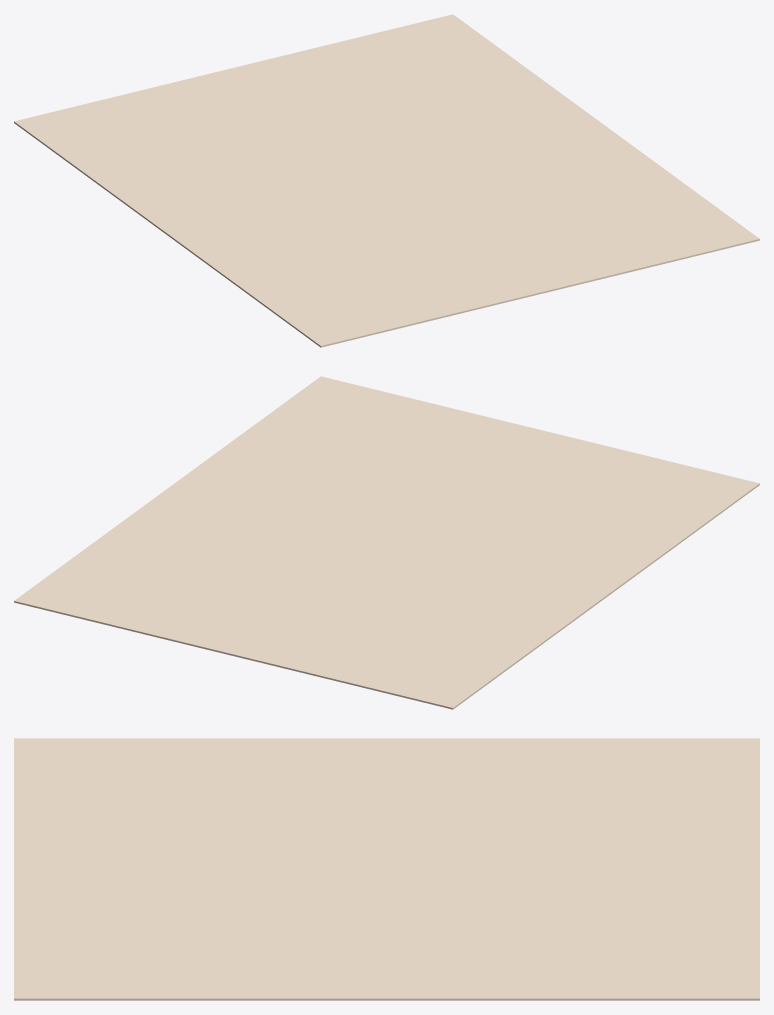
Rendered from celing.fbx.
3 renders of one model, top to bottom at view 1: azimuth 30°, elevation 25°; view 2: azimuth 150°, elevation 25°; view 3: azimuth 270°, elevation 25°, orthographic. The views are drawn at different scales.
Visible parts, largest first — view 1: celing; view 2: celing; view 3: celing.
Boxes of the visible parts, x1,y1,x2,y2 form: celing: (14, 14, 759, 347); celing: (14, 376, 759, 709); celing: (14, 738, 759, 1000).
Bounding box in the file's own units: 826 × 7 × 1000.
